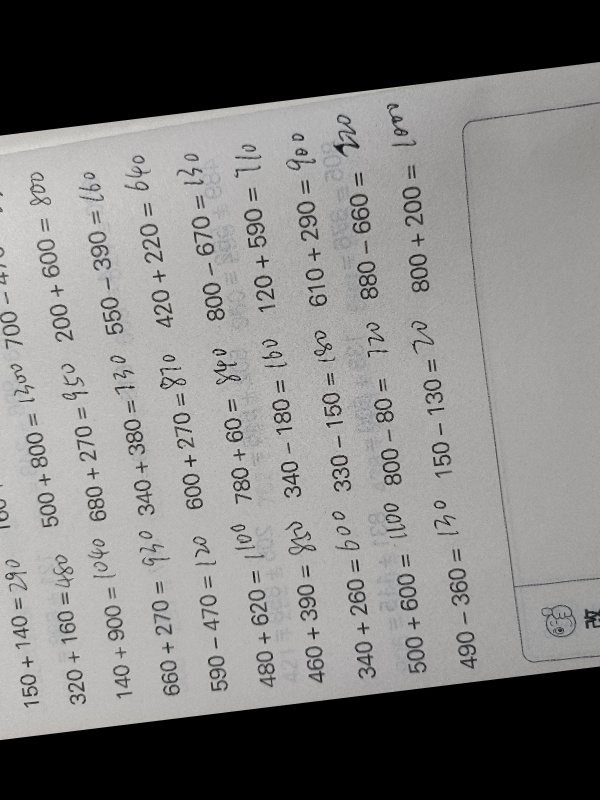equation: (122, 141, 173, 338), (282, 122, 331, 314), (234, 515, 283, 694), (336, 102, 378, 308), (286, 513, 334, 692), (155, 340, 203, 518), (59, 351, 106, 530), (176, 138, 219, 331), (389, 99, 430, 300), (331, 508, 377, 686), (261, 327, 306, 506), (29, 162, 71, 351), (190, 519, 234, 698), (0, 535, 44, 714), (79, 165, 123, 343), (111, 345, 154, 524), (90, 526, 133, 705), (13, 357, 56, 536), (234, 130, 274, 321), (310, 320, 353, 497), (47, 534, 89, 712), (413, 307, 454, 486), (388, 502, 428, 681), (213, 331, 253, 510), (439, 498, 479, 676), (363, 315, 403, 493), (142, 525, 181, 704), (0, 168, 25, 357), (0, 360, 11, 539)
